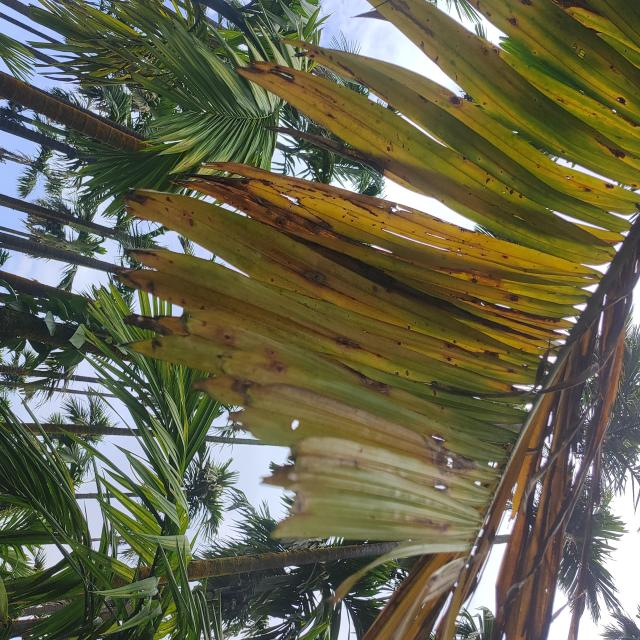Stem_Cracking: (130, 98, 494, 507)
